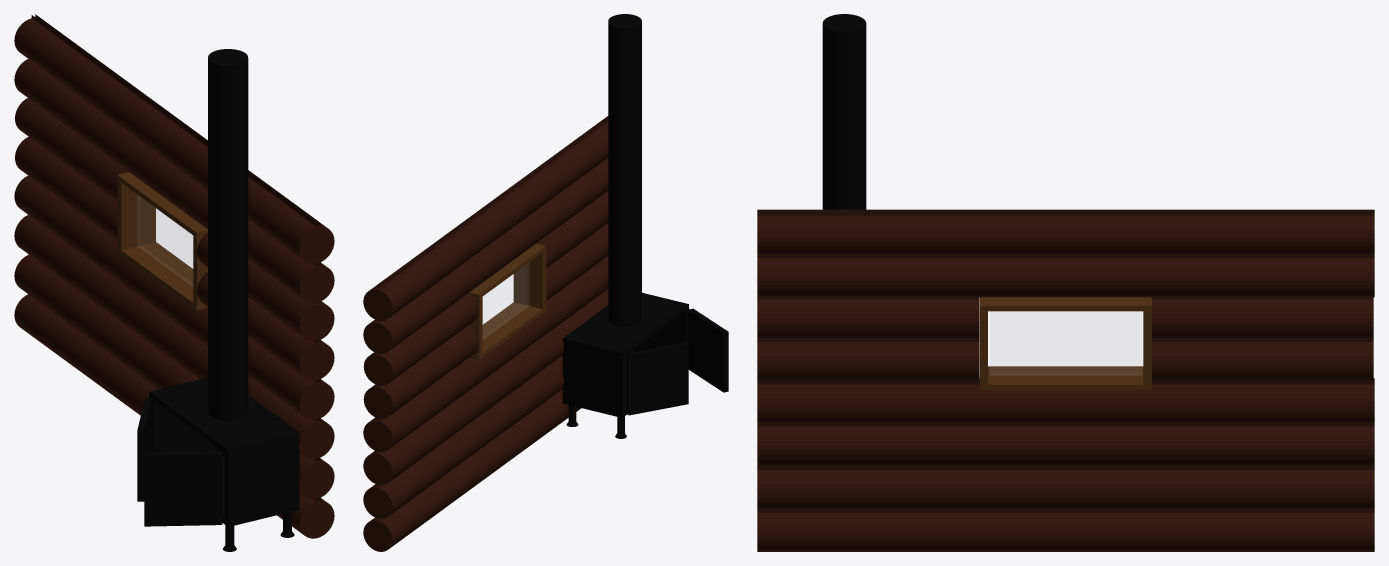
Rendered from LogCabinScenefbx.fbx.
3 renders of one model, left to right at view 1: azimuth 30°, elevation 25°; view 2: azimuth 150°, elevation 25°; view 3: azimuth 270°, elevation 25°, orthographic. The views are drawn at different scales.
Parts seen in each view (by area): view 1: Wall, Stove, Window, door, door2; view 2: Wall, Stove, Window, door2, door; view 3: Wall, Window, Stove.
Boxes of the visible parts, <box> form: Wall: <box>14,14,334,538</box>; Stove: <box>149,49,299,551</box>; Window: <box>117,172,207,310</box>; door: <box>144,451,222,526</box>; door2: <box>137,398,151,501</box>; Wall: <box>363,116,608,551</box>; Stove: <box>562,14,689,438</box>; Window: <box>468,243,546,359</box>; door2: <box>626,342,688,415</box>; door: <box>688,308,728,392</box>; Wall: <box>757,209,1374,551</box>; Window: <box>979,297,1151,389</box>; Stove: <box>822,14,866,209</box>.
Size of the model in its own units: 9.73 by 25.41 by 28.38.
